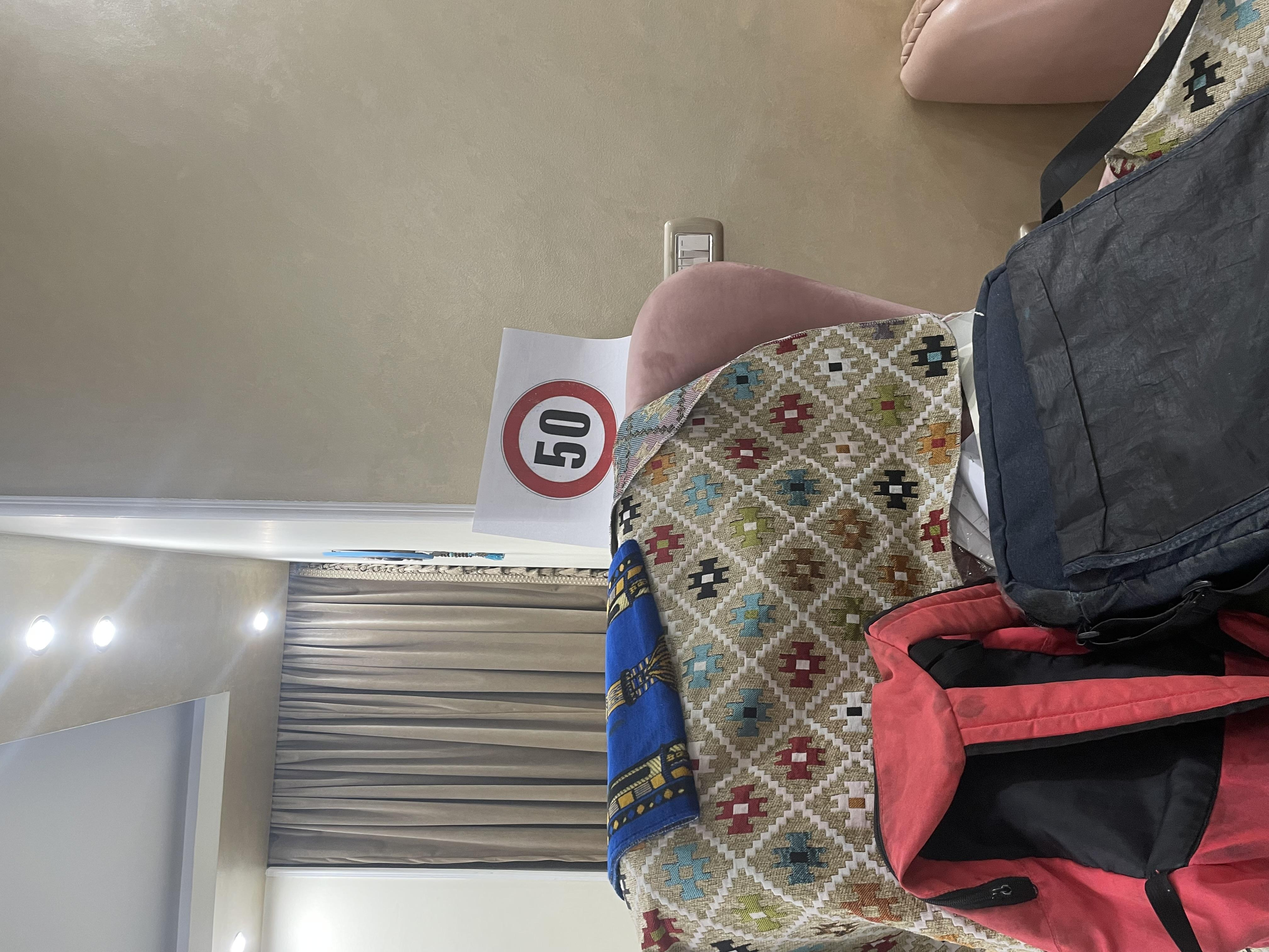50-Speed: (601, 372, 771, 466)
